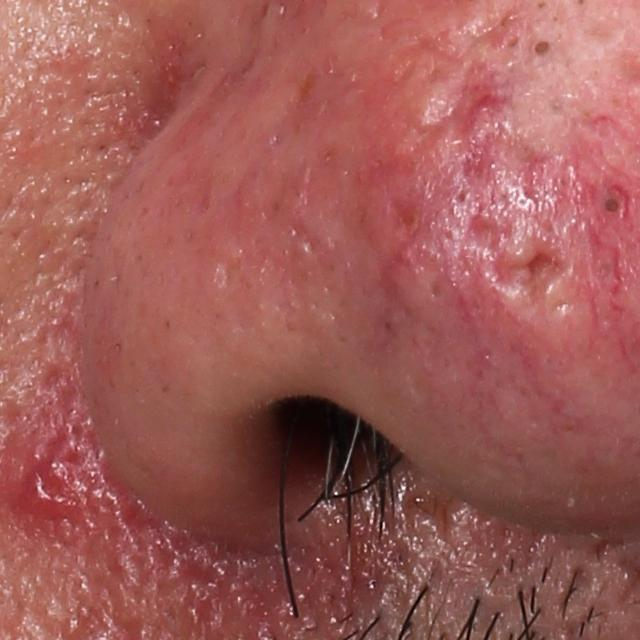atrophic_scar: (381, 63, 515, 174), (466, 214, 570, 308), (489, 138, 564, 214), (396, 485, 451, 543)
comedo: (595, 184, 632, 220), (527, 35, 555, 64)
